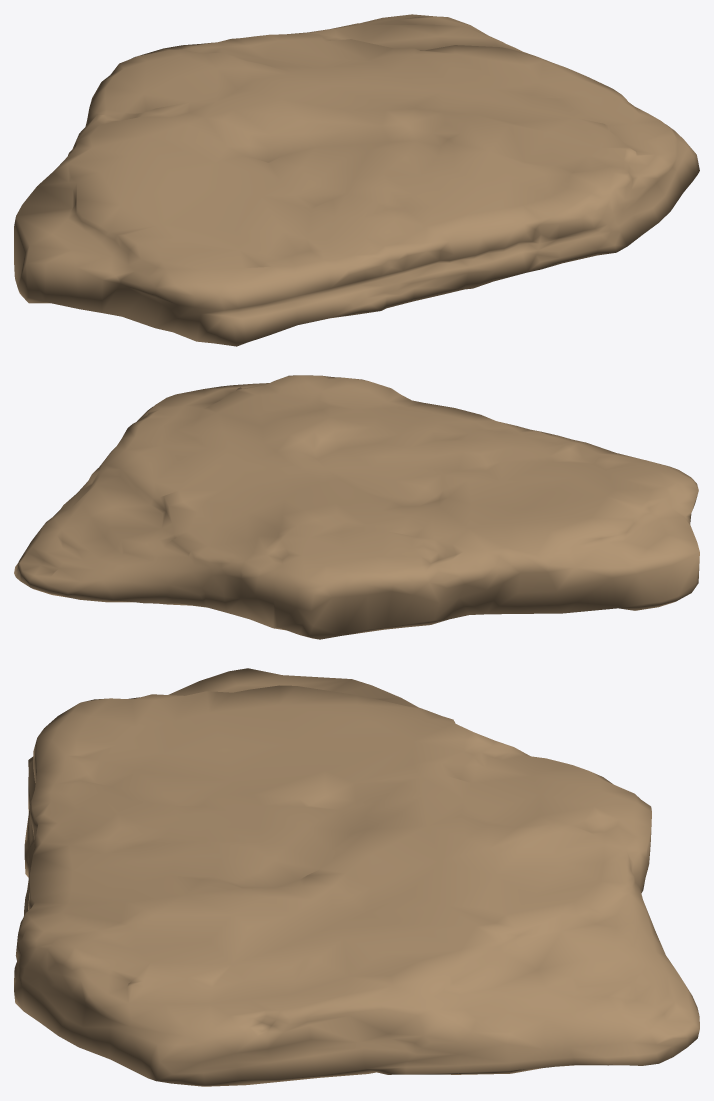
Rendered from MSH_Rocks_Boulder_30.FBX.
3 views of the same model, one above another, from view 1: azimuth 30°, elevation 25°; view 2: azimuth 150°, elevation 25°; view 3: azimuth 270°, elevation 25° (orthographic). The views are drawn at different scales.
Visible parts, largest first — view 1: MESH_LOD0; view 2: MESH_LOD0; view 3: MESH_LOD0.
Part boxes in pixels (x1,y1,x2,y2): MESH_LOD0: (14, 14, 699, 346); MESH_LOD0: (14, 375, 699, 639); MESH_LOD0: (14, 668, 699, 1086).
Size of what is drawn, in the model's own units: 228 by 30.46 by 178.
